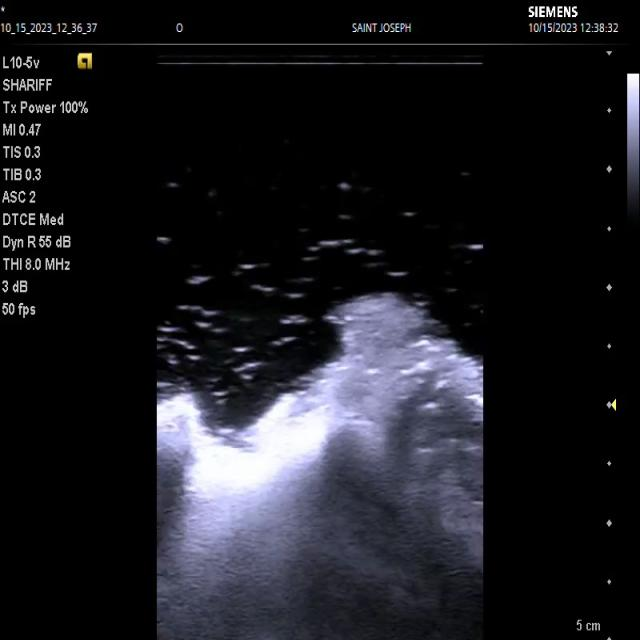tissue: (158, 294, 482, 640)
